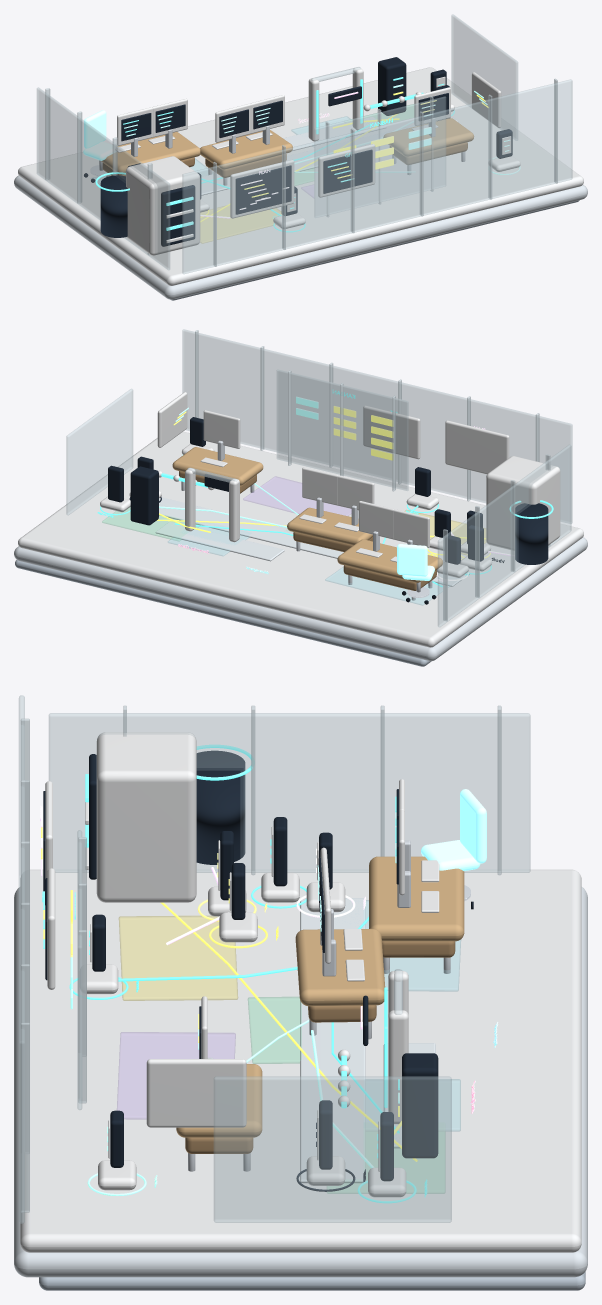
File: crewdesk-scene.glb
3 views of the same model, one above another, from view 1: azimuth 30°, elevation 25°; view 2: azimuth 150°, elevation 25°; view 3: azimuth 270°, elevation 25° (orthographic). The views are drawn at different scales.
Visible parts, largest first — view 1: back_showroom_glass, single_piece_white_showroom_slab, left_showroom_glass, thick_beveled_drop_shadow_edge, center_glass_wall_panel, memory_vault_outer_shell, right_short_glass, planning_timeline_screen_glass_surface, middle_builder_desk_rounded_maple_top, front_coder_command_desk_rounded_maple_top, memory_vault_glow_column, memory_vault_dark_inside (+35 smaller); view 2: single_piece_white_showroom_slab, back_showroom_glass, center_glass_wall_panel, left_showroom_glass, thick_beveled_drop_shadow_edge, right_short_glass, memory_vault_outer_shell, soft_under_slab_shadow, planning_timeline_screen_white_frame, main_circulation_lane, memory_vault_glow_column, github_pr_wall_white_frame (+29 smaller); view 3: single_piece_white_showroom_slab, left_showroom_glass, right_short_glass, thick_beveled_drop_shadow_edge, memory_vault_outer_shell, main_circulation_lane, planning_zone_yellow_card, soft_under_slab_shadow, qa_browser_wall_white_frame, front_coder_command_desk_rounded_maple_top, middle_builder_desk_rounded_maple_top, memory_vault_glow_column (+44 smaller).
Part boxes in pixels (left/top/right/bottom): back_showroom_glass: left=182, top=79, right=572, bottom=273; single_piece_white_showroom_slab: left=18, top=67, right=583, bottom=285; left_showroom_glass: left=37, top=87, right=169, bottom=269; thick_beveled_drop_shadow_edge: left=14, top=175, right=587, bottom=299; center_glass_wall_panel: left=314, top=96, right=445, bottom=217; memory_vault_outer_shell: left=126, top=156, right=200, bottom=255; right_short_glass: left=451, top=14, right=517, bottom=140; planning_timeline_screen_glass_surface: left=235, top=165, right=291, bottom=214; middle_builder_desk_rounded_maple_top: left=200, top=130, right=292, bottom=169; front_coder_command_desk_rounded_maple_top: left=101, top=132, right=200, bottom=174; memory_vault_glow_column: left=100, top=175, right=127, bottom=237; memory_vault_dark_inside: left=161, top=185, right=195, bottom=246; single_piece_white_showroom_slab: left=18, top=431, right=583, bottom=647; back_showroom_glass: left=182, top=329, right=572, bottom=523; center_glass_wall_panel: left=277, top=369, right=408, bottom=490; left_showroom_glass: left=438, top=445, right=571, bottom=626; thick_beveled_drop_shadow_edge: left=14, top=537, right=587, bottom=661; right_short_glass: left=66, top=389, right=132, bottom=515; memory_vault_outer_shell: left=486, top=456, right=560, bottom=550; soft_under_slab_shadow: left=15, top=560, right=431, bottom=666; planning_timeline_screen_white_frame: left=445, top=420, right=509, bottom=474; main_circulation_lane: left=159, top=497, right=469, bottom=586; memory_vault_glow_column: left=515, top=503, right=548, bottom=564; github_pr_wall_white_frame: left=363, top=405, right=420, bottom=459; single_piece_white_showroom_slab: left=20, top=869, right=581, bottom=1252; left_showroom_glass: left=49, top=713, right=530, bottom=872; right_short_glass: left=214, top=1076, right=451, bottom=1222; thick_beveled_drop_shadow_edge: left=14, top=887, right=587, bottom=1277; memory_vault_outer_shell: left=96, top=732, right=196, bottom=902; main_circulation_lane: left=300, top=898, right=365, bottom=1183; planning_zone_yellow_card: left=118, top=915, right=238, bottom=1000; soft_under_slab_shadow: left=39, top=1271, right=585, bottom=1290; qa_browser_wall_white_frame: left=146, top=1059, right=246, bottom=1127; front_coder_command_desk_rounded_maple_top: left=369, top=856, right=464, bottom=941; middle_builder_desk_rounded_maple_top: left=295, top=928, right=385, bottom=1006; memory_vault_glow_column: left=196, top=750, right=245, bottom=864.
Size of the model in its own units: 8.13 by 2.37 by 5.06.
